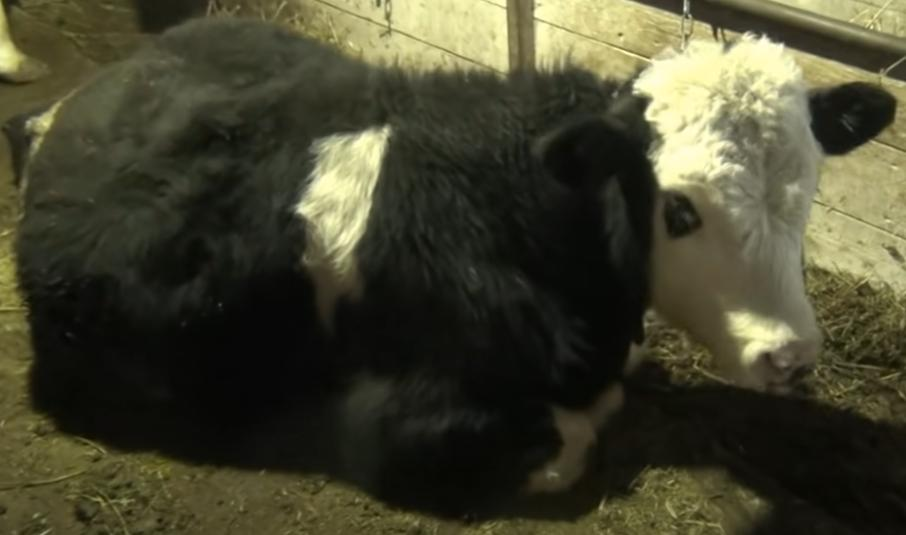cow: (17, 14, 898, 493)
